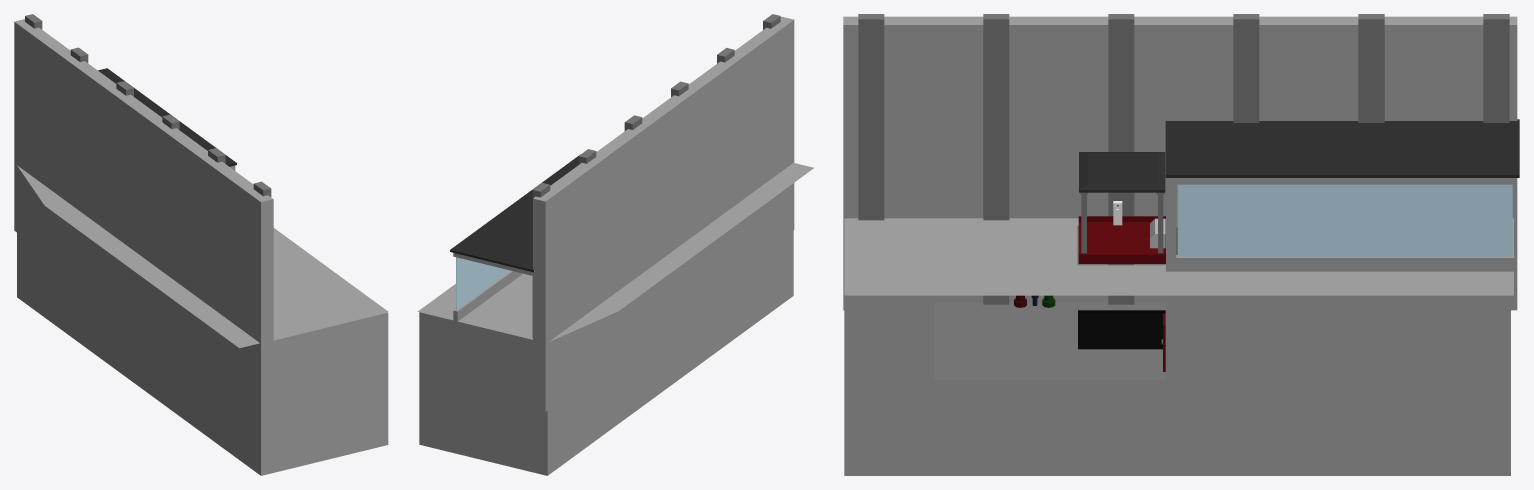
File: asset_ascensor_con_sotano.fbx
3 views of the same model, side by side, from view 1: azimuth 30°, elevation 25°; view 2: azimuth 150°, elevation 25°; view 3: azimuth 270°, elevation 25° (orthographic). The views are drawn at different scales.
Parts seen in each view (by area): view 1: pared, parte inferior, suelo, columnas, cabina ascensor; view 2: pared, parte inferior, suelo, cabina ascensor, columnas; view 3: parte inferior, pared, cabina ascensor, suelo, columnas, suelo_inferior, techo, elevador, soportes_ascensor.
Boxes of the visible parts, <box> form: pared: <box>14,19,273,410</box>; parte inferior: <box>17,233,388,475</box>; suelo: <box>17,165,388,348</box>; columnas: <box>25,14,271,196</box>; cabina ascensor: <box>98,68,236,170</box>; pared: <box>533,16,794,411</box>; parte inferior: <box>419,231,793,475</box>; suelo: <box>417,162,813,341</box>; cabina ascensor: <box>450,154,580,322</box>; columnas: <box>532,14,780,337</box>; parte inferior: <box>844,218,1510,475</box>; pared: <box>843,16,1517,310</box>; cabina ascensor: <box>1165,119,1519,271</box>; suelo: <box>845,218,1513,295</box>; columnas: <box>858,14,1509,304</box>; suelo_inferior: <box>934,302,1165,379</box>; techo: <box>1079,152,1165,192</box>; elevador: <box>1078,216,1165,263</box>; soportes_ascensor: <box>1080,192,1164,253</box>.
Bounding box in the file's own units: 753 × 1348 × 2163.
